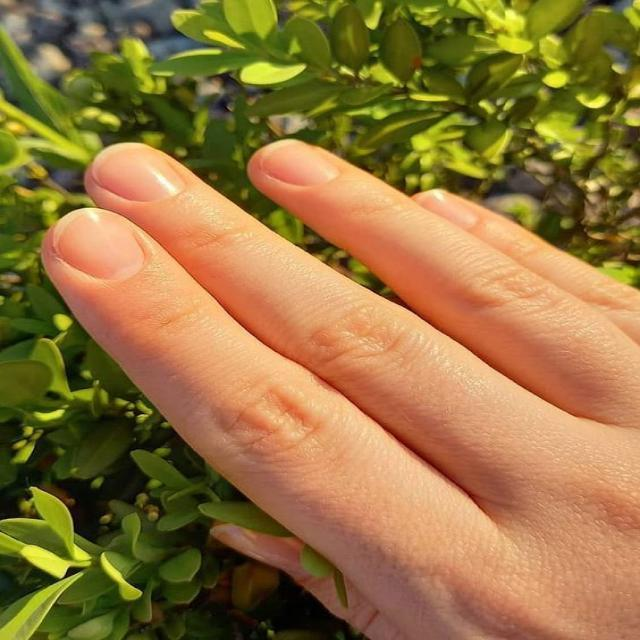Fingernail: (52, 210, 146, 283), (89, 139, 181, 201), (213, 523, 314, 574), (264, 135, 337, 188), (419, 187, 478, 228)
